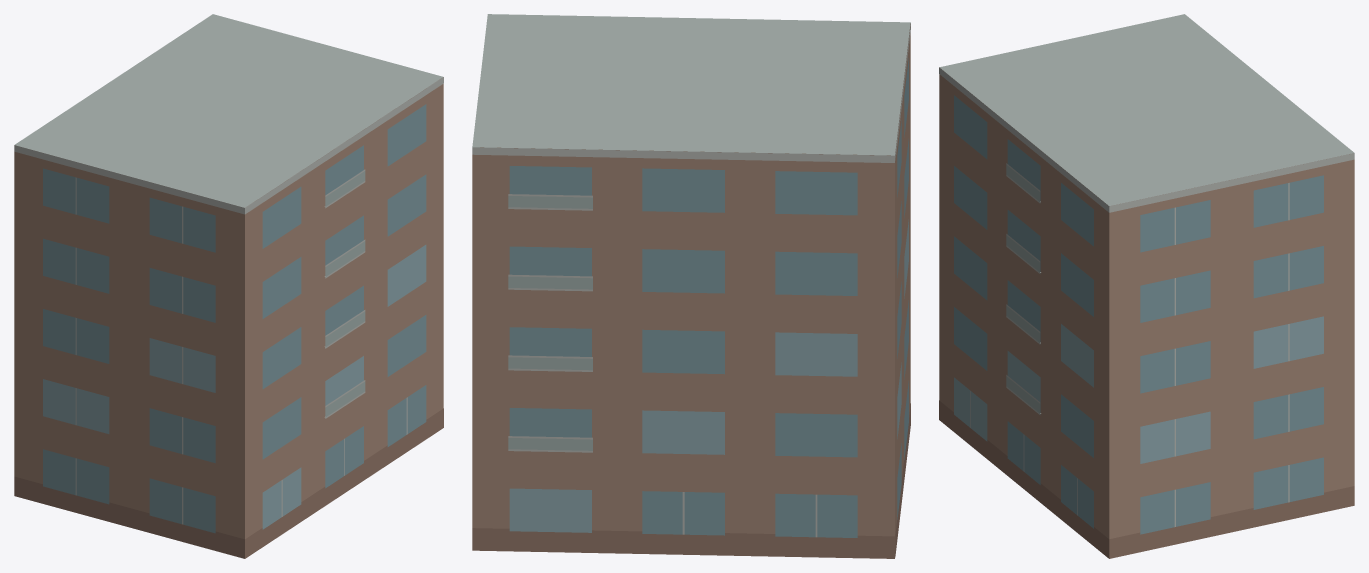
File: survey-upis-32836999.glb
3 views of the same model, side by side, from view 1: azimuth 30°, elevation 25°; view 2: azimuth 150°, elevation 25°; view 3: azimuth 270°, elevation 25° (orthographic). The views are drawn at different scales.
Visible parts, largest first — view 1: survey-upis-32836999.tmp; view 2: survey-upis-32836999.tmp; view 3: survey-upis-32836999.tmp.
Boxes of the visible parts, <box> form: survey-upis-32836999.tmp: <box>14,14,443,558</box>; survey-upis-32836999.tmp: <box>472,14,910,558</box>; survey-upis-32836999.tmp: <box>939,14,1354,558</box>.
Size of the model in its own units: 15.2 by 13 by 13.89.
